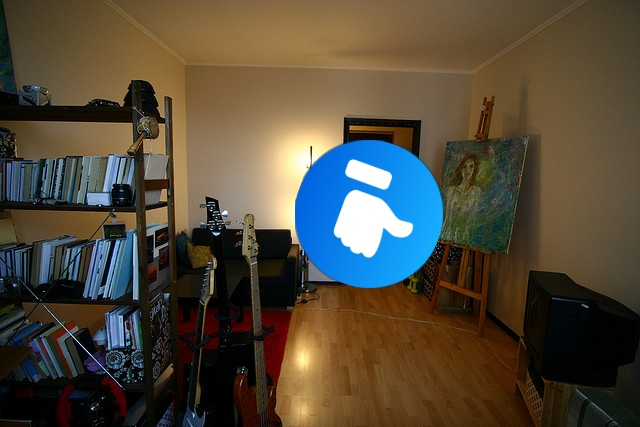like: (295, 140, 443, 288)
